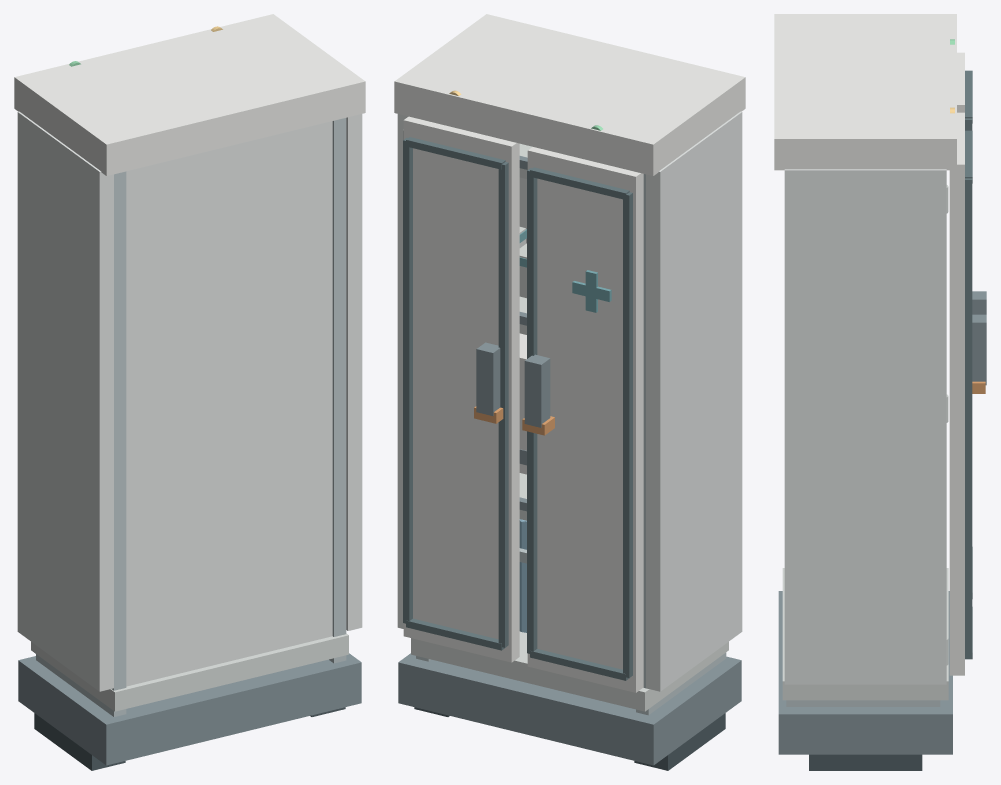
File: emergency_supply_lockbox.glb
3 views of the same model, side by side, from view 1: azimuth 30°, elevation 25°; view 2: azimuth 150°, elevation 25°; view 3: azimuth 270°, elevation 25° (orthographic).
Visible parts, largest first — view 1: rear_panel_white_ceramic, left_skin_white_ceramic, roof_white_painted, lower_frame_dark_alloy, structural_uprights_alloy, right_skin_white_ceramic, floor_panel_warm_panel, feet_black_rubber; view 2: left_skin_white_ceramic, right_door_white_painted, left_door_white_painted, roof_white_painted, lower_frame_dark_alloy, right_door_seal_rubber_gasket, door_seal_rubber_gasket, floor_panel_warm_panel, right_skin_white_ceramic, structural_uprights_alloy, left_door_handle_dark_alloy, right_door_handle_dark_alloy (+5 smaller); view 3: right_skin_white_ceramic, roof_white_painted, lower_frame_dark_alloy, right_door_white_painted, right_door_seal_rubber_gasket, floor_panel_warm_panel, feet_black_rubber, structural_uprights_alloy, right_door_handle_dark_alloy, door_seal_rubber_gasket, left_door_white_painted.
Part boxes in pixels (<box>): rear_panel_white_ceramic: <box>126,121,332,686</box>; left_skin_white_ceramic: <box>17,111,113,691</box>; roof_white_painted: <box>14,14,365,175</box>; lower_frame_dark_alloy: <box>18,653,361,765</box>; structural_uprights_alloy: <box>36,118,346,716</box>; right_skin_white_ceramic: <box>346,114,362,630</box>; floor_panel_warm_panel: <box>31,633,348,711</box>; feet_black_rubber: <box>34,707,345,770</box>; left_skin_white_ceramic: <box>646,111,742,691</box>; right_door_white_painted: <box>403,116,519,662</box>; left_door_white_painted: <box>527,147,643,692</box>; roof_white_painted: <box>394,14,745,175</box>; lower_frame_dark_alloy: <box>398,653,741,765</box>; right_door_seal_rubber_gasket: <box>403,137,508,650</box>; door_seal_rubber_gasket: <box>527,167,632,680</box>; floor_panel_warm_panel: <box>411,631,728,711</box>; right_skin_white_ceramic: <box>397,114,408,628</box>; structural_uprights_alloy: <box>416,174,726,715</box>; left_door_handle_dark_alloy: <box>524,354,550,427</box>; right_door_handle_dark_alloy: <box>476,342,500,415</box>; right_skin_white_ceramic: <box>784,169,946,684</box>; roof_white_painted: <box>774,14,956,170</box>; lower_frame_dark_alloy: <box>778,591,952,754</box>; right_door_white_painted: <box>949,112,964,675</box>; right_door_seal_rubber_gasket: <box>965,130,972,659</box>; floor_panel_warm_panel: <box>782,568,948,700</box>; feet_black_rubber: <box>809,754,922,770</box>; structural_uprights_alloy: <box>786,700,940,706</box>; right_door_handle_dark_alloy: <box>972,314,986,385</box>; door_seal_rubber_gasket: <box>965,70,972,598</box>; left_door_white_painted: <box>957,52,964,112</box>.
Bounding box in the file's own units: 0.74 × 1.73 × 0.523.
